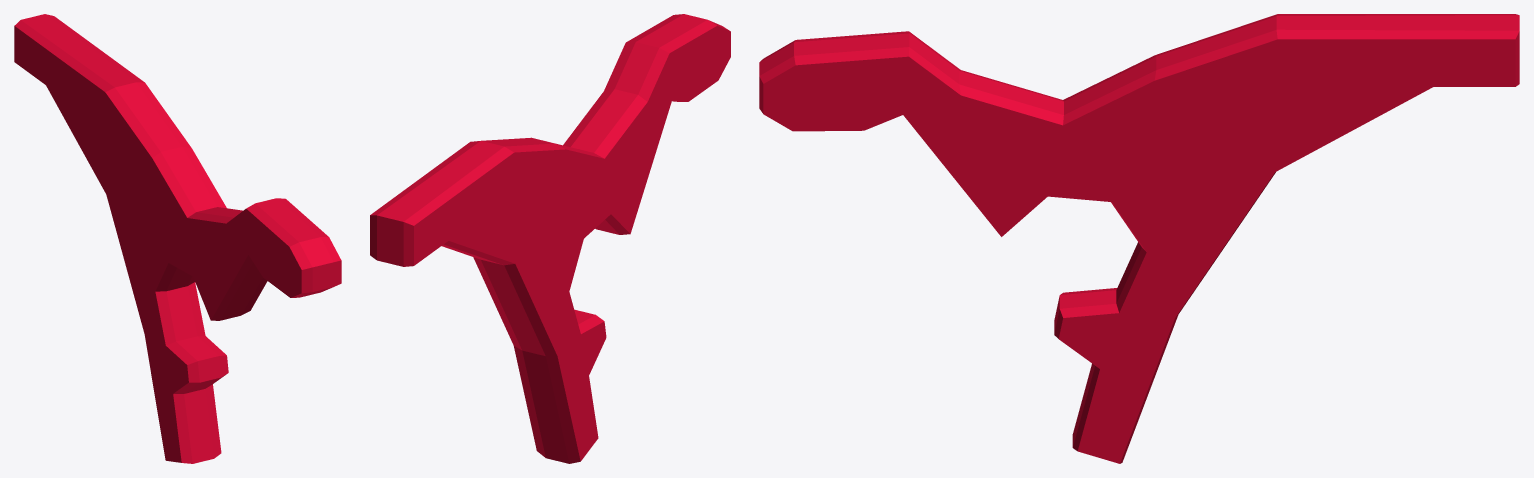
Rendered from PERCUTOR_REVOLVER_LOW.fbx.
3 renders of one model, left to right at view 1: azimuth 30°, elevation 25°; view 2: azimuth 150°, elevation 25°; view 3: azimuth 270°, elevation 25°, orthographic. The views are drawn at different scales.
Parts seen in each view (by area): view 1: Torus.001; view 2: Torus.001; view 3: Torus.001.
Part boxes in pixels (left/top/right/bottom): Torus.001: left=14, top=14, right=341, bottom=463; Torus.001: left=370, top=14, right=730, bottom=463; Torus.001: left=759, top=14, right=1519, bottom=463.
Bounding box in the file's own units: 3.72 × 29.57 × 47.06.
